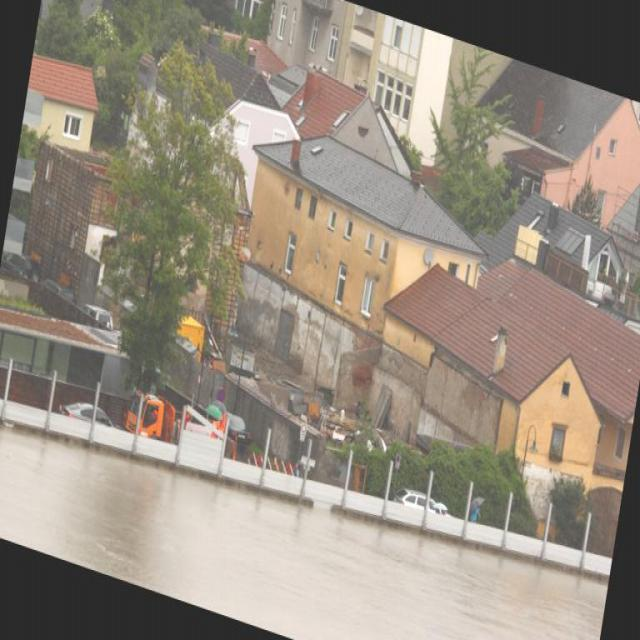flood: (0, 354, 611, 639)
